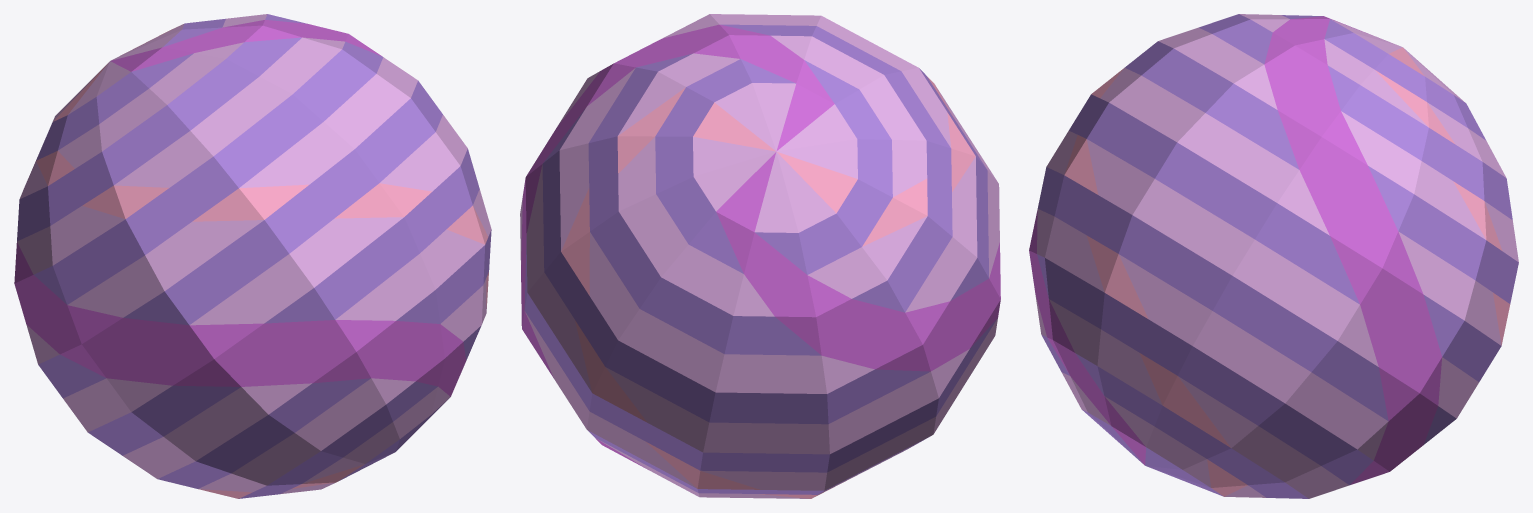
File: String.fbx
The picture shows the model from 3 angles, left to right: view 1: azimuth 30°, elevation 25°; view 2: azimuth 150°, elevation 25°; view 3: azimuth 270°, elevation 25°; orthographic projection. The views are drawn at different scales.
Visible parts, largest first — view 1: group1970492613; view 2: group1970492613; view 3: group1970492613.
Part boxes in pixels (x1,y1,x2,y2): group1970492613: (14,14,491,498); group1970492613: (520,14,1000,498); group1970492613: (1029,14,1518,498).
Bounding box in the file's own units: 56.72 × 57.52 × 57.79.
